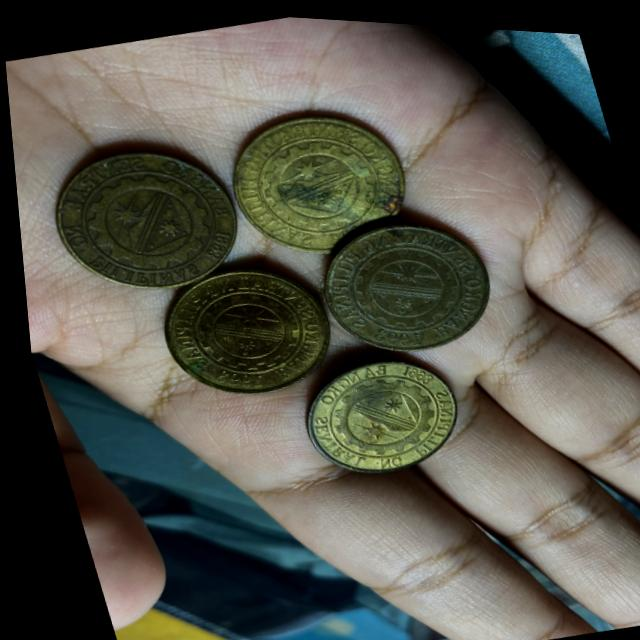25Cent_Old_Back: (35, 131, 253, 307), (211, 96, 424, 259), (143, 250, 337, 409), (305, 199, 490, 355), (277, 343, 468, 485)
